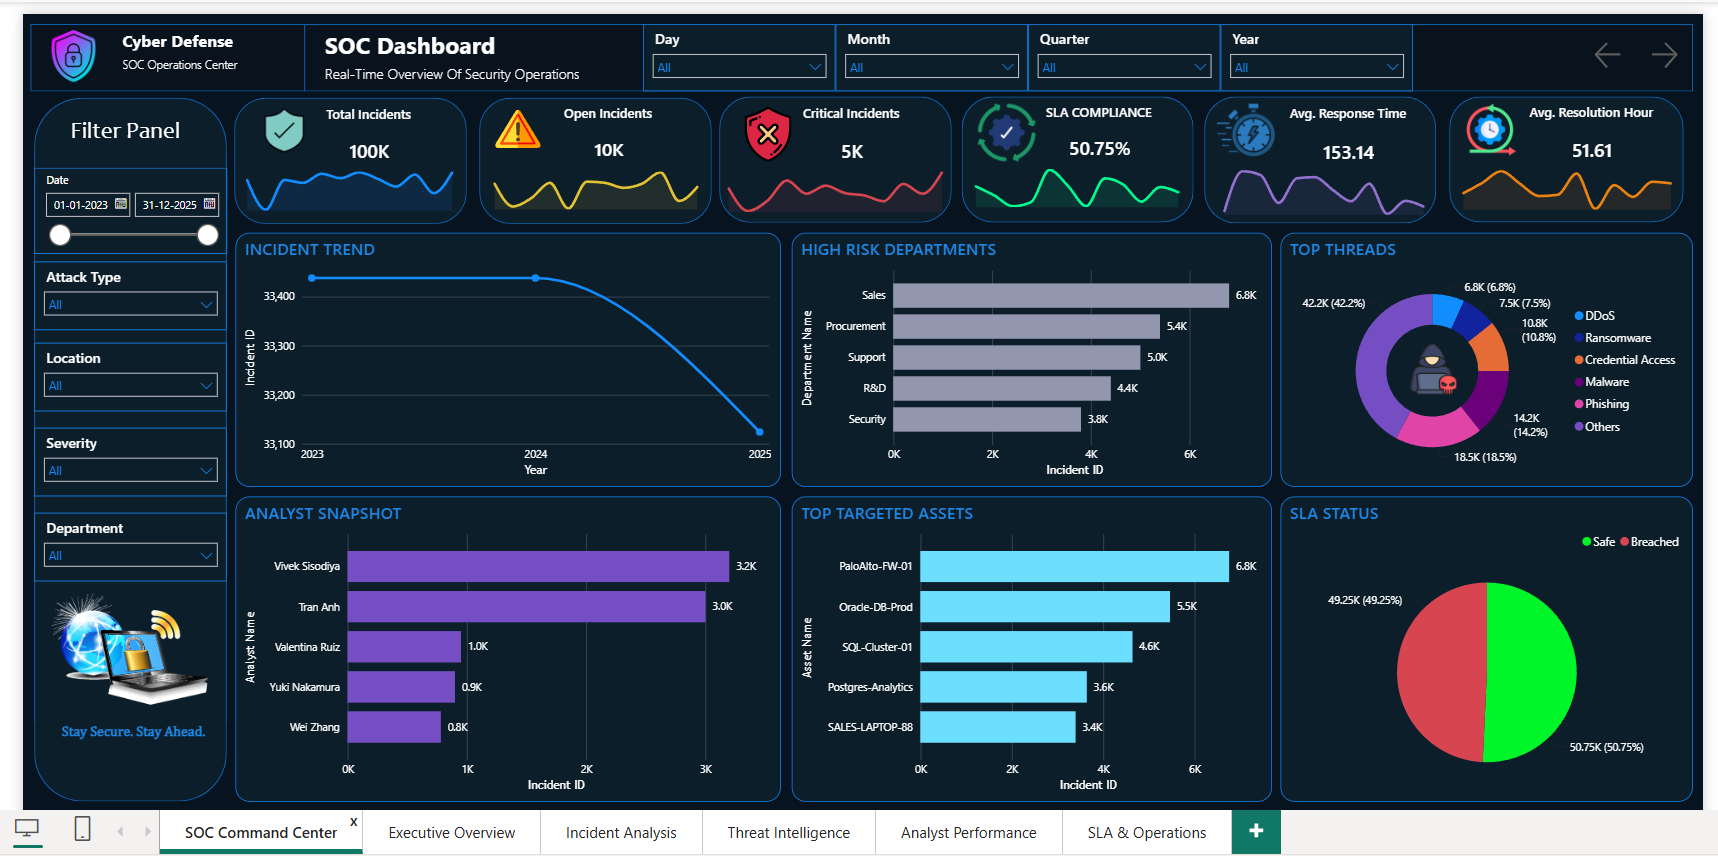

The page's visual inventory and layout, read from the dashboard file:
{"tool":"powerbi","page":{"name":"SOC Command Center","canvas":[1920,1080],"ordinal":0},"visuals":[{"type":"shape","box":[1350,94.3,265,145],"z":0,"group":"g2"},{"type":"shape","box":[1630,94.3,267.8,143.8],"z":0,"group":"g1"},{"type":"shape","box":[241.4,95.7,265.7,144.3],"z":0},{"type":"donutChart","title":"TOP THREADS ","fields":{"Y":["CountNonNull(Incident.IncidentID)"],"Category":["Incident.Others"]},"box":[1437.1,250,471.4,290],"z":0,"group":"g5"},{"type":"shape","box":[9,12,315,77],"z":1000},{"type":"cardVisual","title":"Avg. Resolution Hour","fields":{"Data":["Avg(Incident.ResolutionHours)"]},"box":[1699.4,101.9,184.7,83.3],"z":1000,"group":"g1"},{"type":"cardVisual","title":"Avg. Response Time","fields":{"Data":["Avg(Incident.ResponseTimeMin)"]},"box":[1425.6,103.3,177,83],"z":1000,"group":"g2"},{"type":"image","box":[1577.1,375.7,70,60],"z":1000,"group":"g5"},{"type":"shape","box":[521.4,95.7,265.7,144.3],"z":2000},{"type":"lineChart","fields":{"Category":["Date.Date.Variation.Date Hierarchy.Month"],"Y":["Avg(Incident.ResponseTimeMin)"]},"box":[1360.6,165.3,254,69],"z":2000,"group":"g2"},{"type":"lineChart","fields":{"Category":["Date.Date.Variation.Date Hierarchy.Month"],"Y":["Avg(Incident.ResolutionHours)"]},"box":[1632.5,166.2,264.1,63.1],"z":2000,"group":"g1"},{"type":"textbox","title":"Cyber Defense","box":[109,17,154,30],"z":3000},{"type":"image","box":[1354.6,95.3,88,72],"z":3000,"group":"g2"},{"type":"image","box":[1646.1,101.9,64.5,61.8],"z":3000,"group":"g1"},{"type":"shape","box":[795.7,94.3,265.7,144.3],"z":4000},{"type":"shape","box":[321.4,11.4,1587.1,77.1],"z":5000,"group":"g3"},{"type":"textbox","title":"SOC Operations Center","box":[109,49,195,27],"z":5000},{"type":"textbox","title":"SOC Dashboard","box":[339.8,16.4,390.5,64.1],"z":6000,"group":"g3"},{"type":"shape","box":[12.9,95.7,220,804.3],"z":6000},{"type":"image","box":[16,14,84,67],"z":7000},{"type":"textbox","title":"Real-Time Overview Of Security Operations","box":[339.8,56.5,633.5,24],"z":7000,"group":"g3"},{"type":"group","id":"g1","title":"Group 6","box":[1630,94.3,267.1,142.9],"z":8000},{"type":"group","id":"g2","title":"Group 5","box":[1350,94.3,265.7,144.3],"z":9000},{"type":"group","id":"g3","title":"Group 8","box":[321.4,11.4,1587.1,77.1],"z":10000},{"type":"image","box":[264.3,97.1,68.6,71.4],"z":11000},{"type":"actionButton","box":[1855.7,27.1,41.4,40],"z":12000},{"type":"actionButton","box":[1791.4,27.1,41.4,40],"z":13000},{"type":"cardVisual","title":"Total Incidents","fields":{"Data":["CountNonNull(Incident.IncidentID)"]},"box":[304.3,104.3,181.4,80],"z":14000},{"type":"lineChart","fields":{"Category":["Date.Date.Variation.Date Hierarchy.Month"],"Y":["Analyst.Total Incidents"]},"box":[242.9,167.1,261.4,62.9],"z":15000},{"type":"cardVisual","title":"Open Incidents","fields":{"Data":["Analyst.Open Incidents"]},"box":[578.6,102.9,180,78.6],"z":16000},{"type":"lineChart","fields":{"Category":["Date.Date.Variation.Date Hierarchy.Month"],"Y":["Analyst.Open Incidents"]},"box":[525.7,167.1,258.6,61.4],"z":17000},{"type":"cardVisual","title":"Critical Incidents","fields":{"Data":["Analyst.Critical Incidents"]},"box":[851.4,102.9,190,82.9],"z":18000},{"type":"lineChart","fields":{"Category":["Date.Date.Variation.Date Hierarchy.Month"],"Y":["Analyst.Critical Incidents"]},"box":[792.9,167.1,271.4,64.3],"z":19000},{"type":"shape","box":[1072.9,94.3,265,144],"z":20000,"group":"g4"},{"type":"image","box":[535.7,105.7,60,51.4],"z":20000},{"type":"cardVisual","title":"SLA COMPLIANCE","fields":{"Data":["Analyst.SLA Compliance (%)"]},"box":[1140,101.4,179.2,79.8],"z":21000,"group":"g4"},{"type":"image","box":[811.4,105.7,80,62.9],"z":21000},{"type":"group","id":"g4","title":"Group 1","box":[1072.9,94.3,265,144],"z":22000},{"type":"lineChart","fields":{"Category":["Date.Date.Variation.Date Hierarchy.Month"],"Y":["Analyst.SLA Compliance (%)"]},"box":[1075.9,164,258.2,61.7],"z":22000,"group":"g4"},{"type":"image","box":[1088.9,101.4,71.1,67.7],"z":23000,"group":"g4"},{"type":"lineChart","title":"INCIDENT TREND","fields":{"Category":["Date.Date.Variation.Date Hierarchy.Year","Date.Date.Variation.Date Hierarchy.Quarter","Date.Date.Variation.Date Hierarchy.Month","Date.Date.Variation.Date Hierarchy.Day"],"Y":["CountNonNull(Incident.IncidentID)"]},"box":[242.9,250,622.9,290],"z":23000},{"type":"slicer","fields":{"Values":["Date.DayName"]},"box":[708.6,11.4,220,77.1],"z":24000},{"type":"slicer","fields":{"Values":["Date.MonthName"]},"box":[928.6,11.4,220,77.1],"z":25000},{"type":"slicer","fields":{"Values":["Date.Quarter"]},"box":[1148.6,11.4,220,77.1],"z":26000},{"type":"slicer","fields":{"Values":["Date.Year"]},"box":[1368.6,11.4,220,77.1],"z":27000},{"type":"slicer","fields":{"Values":["Date.Date"]},"box":[12.9,175.7,220,98.6],"z":28000},{"type":"clusteredBarChart","title":"HIGH RISK DEPARTMENTS","fields":{"Category":["Department.DepartmentName"],"Y":["CountNonNull(Incident.IncidentID)"]},"box":[878.6,250,548.6,290],"z":29000},{"type":"clusteredBarChart","title":"TOP TARGETED ASSETS","fields":{"Y":["CountNonNull(Incident.IncidentID)"],"Category":["Asset.AssetName"]},"box":[878.6,551.4,548.6,348.6],"z":30000},{"type":"clusteredBarChart","title":"ANALYST SNAPSHOT","fields":{"Category":["Analyst.AnalystName"],"Y":["CountNonNull(Incident.IncidentID)"]},"box":[242.9,551.4,622.9,348.6],"z":31000},{"type":"pieChart","title":"SLA STATUS","fields":{"Category":["Incident.SLA Status"],"Y":["CountNonNull(Incident.IncidentID)"]},"box":[1437.1,551.4,471.4,348.6],"z":32000},{"type":"group","id":"g5","title":"Group 2","box":[1437.1,250,471.4,290],"z":33000},{"type":"slicer","fields":{"Values":["Incident.AttackType"]},"box":[12.9,282.9,220,78.6],"z":34000},{"type":"slicer","fields":{"Values":["Asset.Location"]},"box":[12.9,375.7,220,78.6],"z":35000},{"type":"slicer","fields":{"Values":["Incident.Severity"]},"box":[12.9,472.9,220,78.6],"z":36000},{"type":"slicer","fields":{"Values":["Department.DepartmentName"]},"box":[12.9,570,220,78.6],"z":37000},{"type":"shape","title":"Filter Panel","box":[54.3,115.7,132.9,35.7],"z":38000},{"type":"image","box":[32.9,661.4,178.6,128.6],"z":39000},{"type":"shape","title":"Stay Secure. Stay Ahead.","box":[44.3,811.4,187.1,32.9],"z":40000}]}

Visuals, with their boxes on the page's 1920x1080 design canvas (x1, y1, x2, y2). These are canvas units, not pixel positions in the 1718x856 screenshot, which may show the page scaled, cropped or inside an application window:
shape: 1350 94 1615 239
shape: 1630 94 1898 238
shape: 241 96 507 240
"TOP THREADS " donutChart: 1437 250 1908 540
shape: 9 12 324 89
"Avg. Resolution Hour" cardVisual: 1699 102 1884 185
"Avg. Response Time" cardVisual: 1426 103 1603 186
image: 1577 376 1647 436
shape: 521 96 787 240
lineChart - Date.Date.Variation.Date Hierarchy.Month x Avg(Incident.ResponseTimeMin): 1361 165 1615 234
lineChart - Date.Date.Variation.Date Hierarchy.Month x Avg(Incident.ResolutionHours): 1632 166 1897 229
"Cyber Defense" textbox: 109 17 263 47
image: 1355 95 1443 167
image: 1646 102 1711 164
shape: 796 94 1061 239
shape: 321 11 1908 88
"SOC Operations Center" textbox: 109 49 304 76
"SOC Dashboard" textbox: 340 16 730 80
shape: 13 96 233 900
image: 16 14 100 81
"Real-Time Overview Of Security Operations" textbox: 340 56 973 80
"Group 6" group: 1630 94 1897 237
"Group 5" group: 1350 94 1616 239
"Group 8" group: 321 11 1908 88
image: 264 97 333 168
actionButton: 1856 27 1897 67
actionButton: 1791 27 1833 67
"Total Incidents" cardVisual: 304 104 486 184
lineChart - Date.Date.Variation.Date Hierarchy.Month x Analyst.Total Incidents: 243 167 504 230
"Open Incidents" cardVisual: 579 103 759 182
lineChart - Date.Date.Variation.Date Hierarchy.Month x Analyst.Open Incidents: 526 167 784 228
"Critical Incidents" cardVisual: 851 103 1041 186
lineChart - Date.Date.Variation.Date Hierarchy.Month x Analyst.Critical Incidents: 793 167 1064 231
shape: 1073 94 1338 238
image: 536 106 596 157
"SLA COMPLIANCE" cardVisual: 1140 101 1319 181
image: 811 106 891 169
"Group 1" group: 1073 94 1338 238
lineChart - Date.Date.Variation.Date Hierarchy.Month x Analyst.SLA Compliance (%): 1076 164 1334 226
image: 1089 101 1160 169
"INCIDENT TREND" lineChart: 243 250 866 540
slicer - Date.DayName: 709 11 929 88
slicer - Date.MonthName: 929 11 1149 88
slicer - Date.Quarter: 1149 11 1369 88
slicer - Date.Year: 1369 11 1589 88
slicer - Date.Date: 13 176 233 274
"HIGH RISK DEPARTMENTS" clusteredBarChart: 879 250 1427 540
"TOP TARGETED ASSETS" clusteredBarChart: 879 551 1427 900
"ANALYST SNAPSHOT" clusteredBarChart: 243 551 866 900
"SLA STATUS" pieChart: 1437 551 1908 900
"Group 2" group: 1437 250 1908 540
slicer - Incident.AttackType: 13 283 233 362
slicer - Asset.Location: 13 376 233 454
slicer - Incident.Severity: 13 473 233 552
slicer - Department.DepartmentName: 13 570 233 649
"Filter Panel" shape: 54 116 187 151
image: 33 661 212 790
"Stay Secure. Stay Ahead." shape: 44 811 231 844
